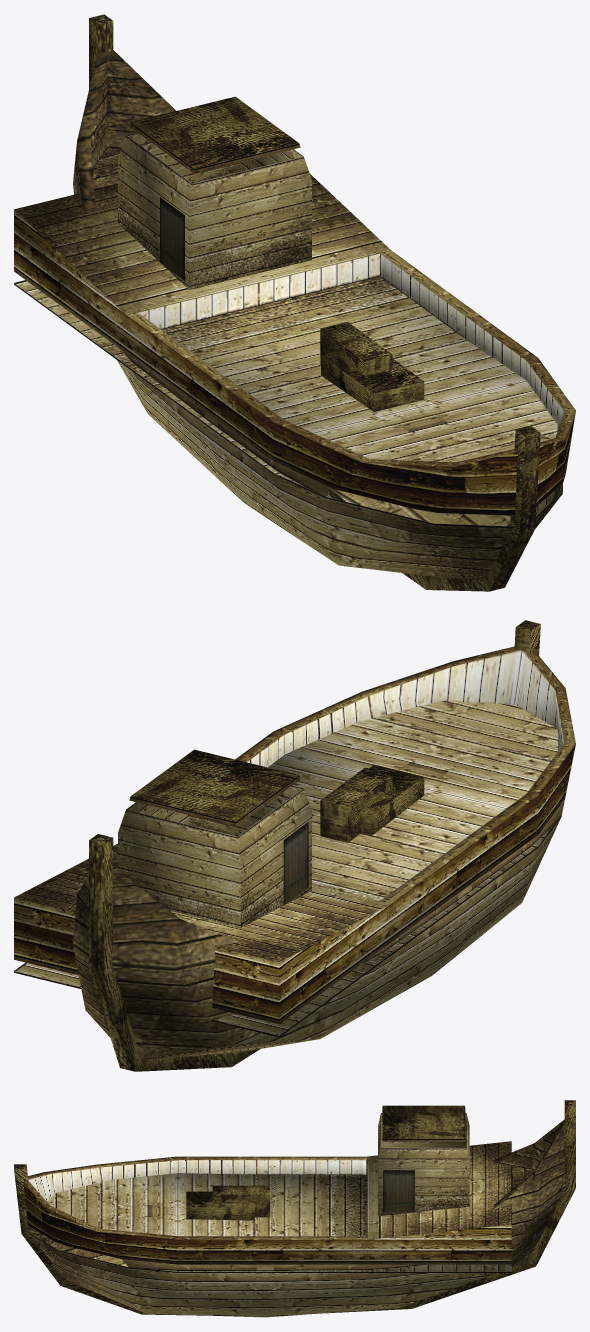
The model's file is iber_merch.dae.
3 renders of one model, top to bottom at view 1: azimuth 30°, elevation 25°; view 2: azimuth 150°, elevation 25°; view 3: azimuth 270°, elevation 25°, orthographic. The views are drawn at different scales.
Visible parts, largest first — view 1: Cube; view 2: Cube; view 3: Cube.
Boxes of the visible parts, bbox=[...] form: Cube: bbox=[14, 14, 575, 591]; Cube: bbox=[14, 620, 575, 1071]; Cube: bbox=[14, 1100, 575, 1317].
Bounding box in the file's own units: 7.69 × 21.92 × 9.09.
